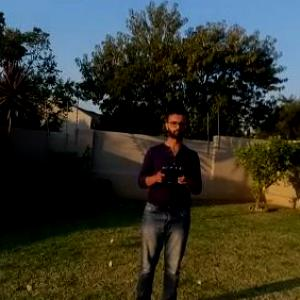follow: (128, 100, 210, 299)
